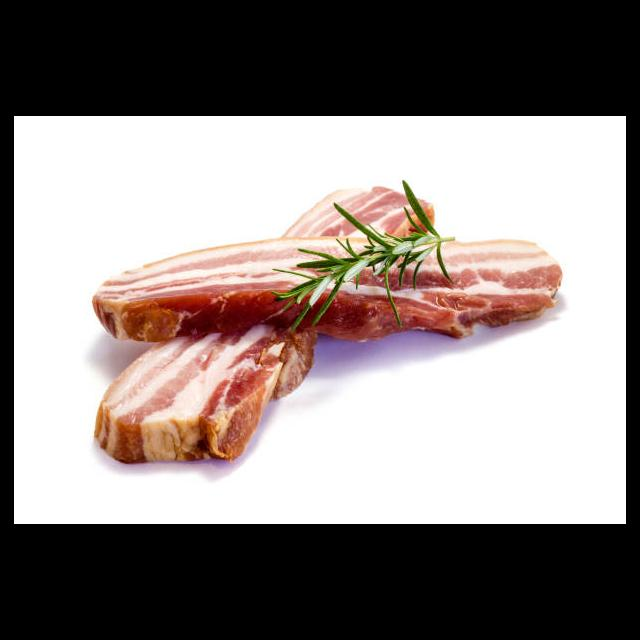pork: (95, 336, 304, 461), (89, 236, 290, 326), (451, 233, 562, 334), (296, 181, 430, 236)
